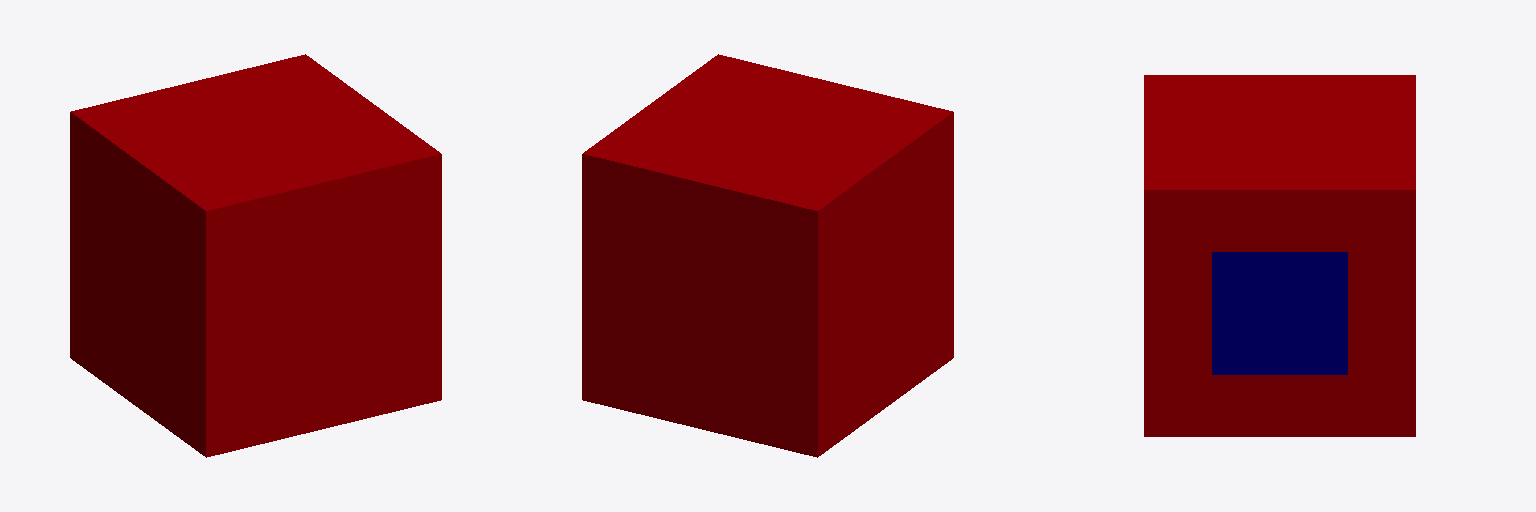
File: rbcube.obj
3 renders of one model, left to right at view 1: azimuth 30°, elevation 25°; view 2: azimuth 150°, elevation 25°; view 3: azimuth 270°, elevation 25°, orthographic.
Visible parts, largest first — view 1: Cube; view 2: Cube; view 3: Cube.
Boxes of the visible parts, <box> form: Cube: <box>70,54,441,457</box>; Cube: <box>582,54,953,457</box>; Cube: <box>1144,75,1415,436</box>.
Size of the model in its own units: 2 by 2 by 2.